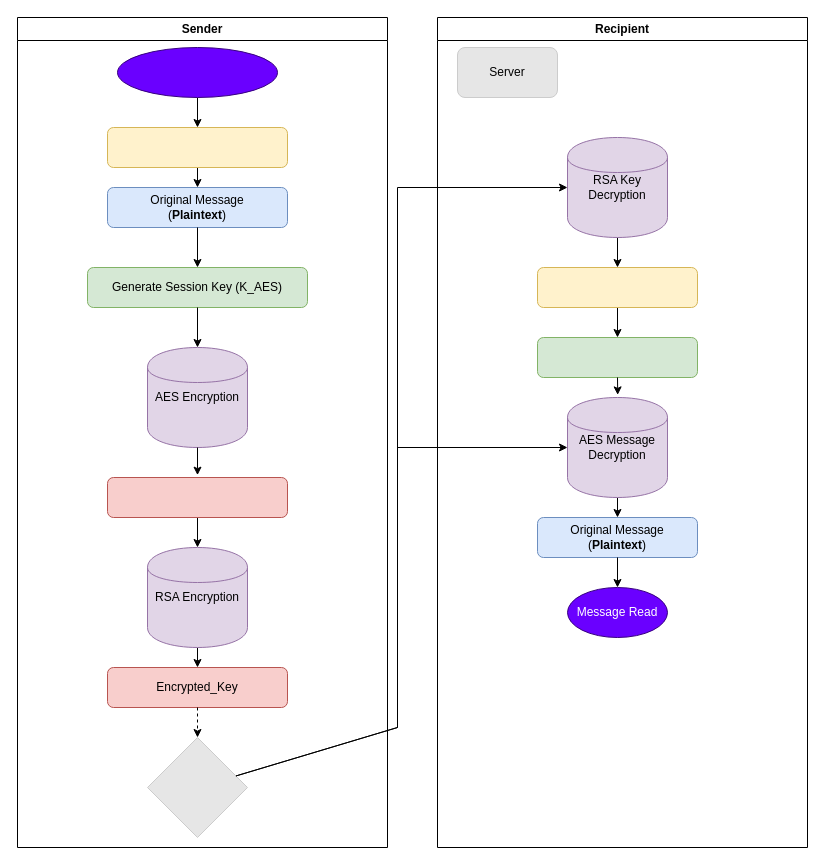
This 825x865 diagram has some shape labels left out. The centre of each missing label's shape, as x and y in pixels:
Ciphertext: (197,497)
Original Session Key ( K_AES ): (617,357)
Recipient's Private Key ( Receiver_Priv_Key ): (617,287)
Recipient's Public Key ( Receiver_Pub_Key ): (197,147)
Start: (197,72)
Transmit Encrypted Data: (197,787)
